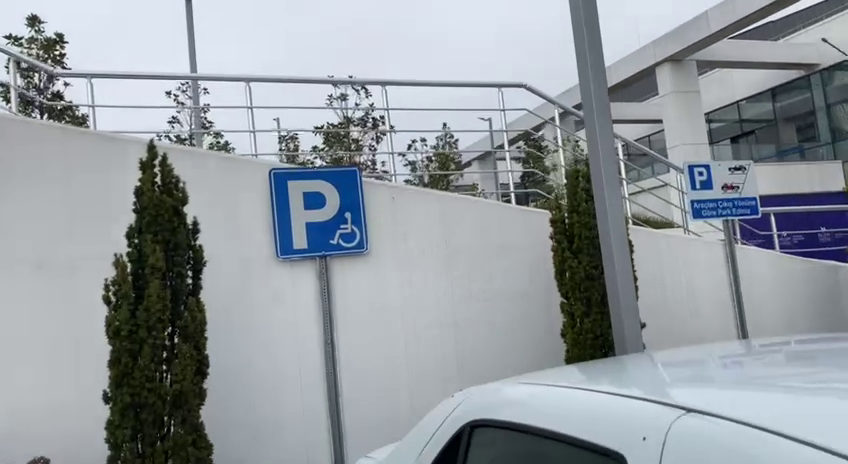parking: (267, 163, 373, 262), (687, 162, 715, 192)
